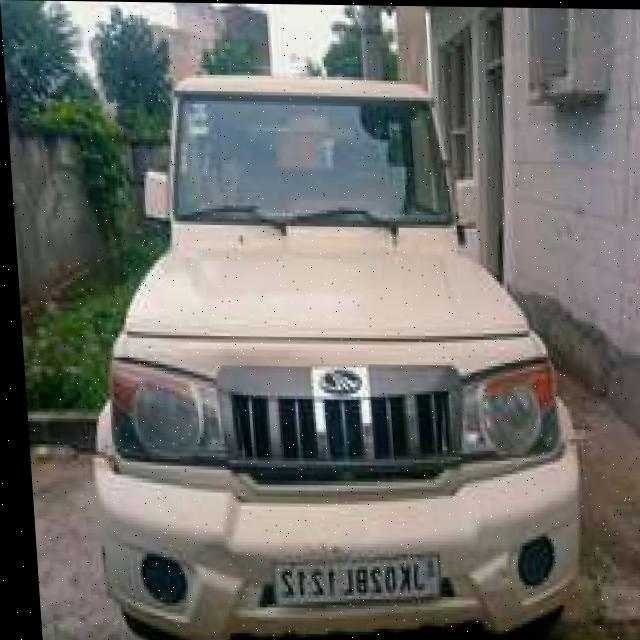plate: (263, 545, 439, 606)
